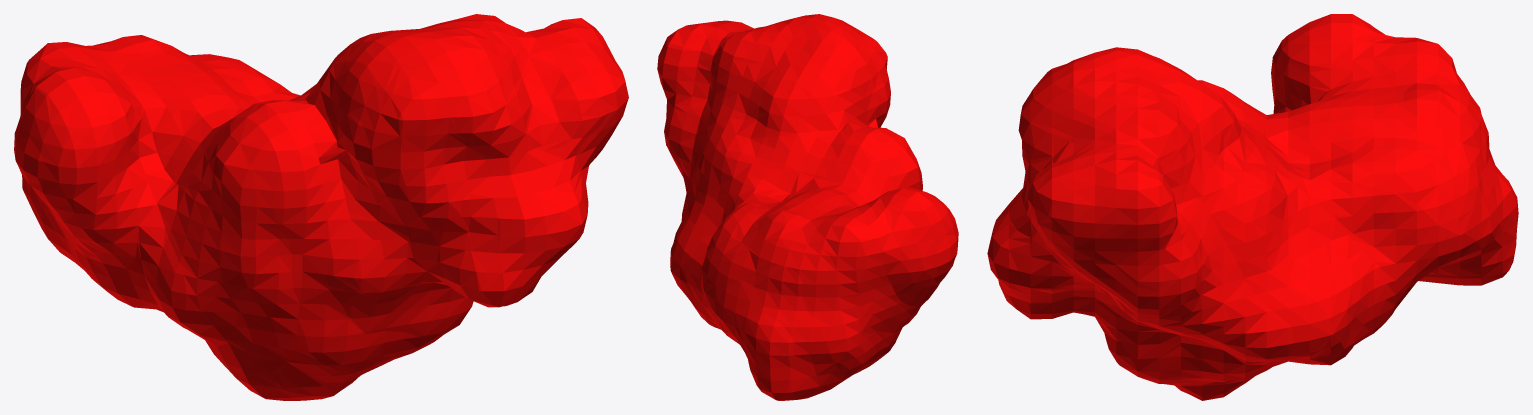
The model's file is serB_coarse.dae.
The picture shows the model from 3 angles, left to right: view 1: azimuth 30°, elevation 25°; view 2: azimuth 150°, elevation 25°; view 3: azimuth 270°, elevation 25°; orthographic projection. The views are drawn at different scales.
Parts seen in each view (by area): view 1: serB; view 2: serB; view 3: serB.
Part boxes in pixels (<box>): serB: <box>14,14,628,400</box>; serB: <box>657,14,958,400</box>; serB: <box>987,14,1518,400</box>.
Size of the model in its own units: 67.09 by 52.2 by 68.22.
